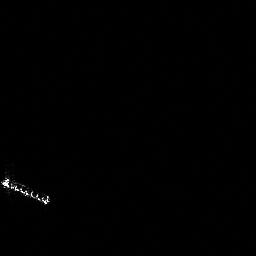ship: (1, 173, 53, 208)
